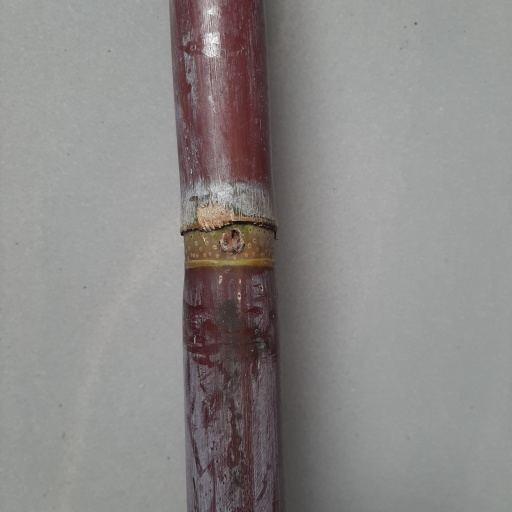Damage_Bud: (218, 227, 245, 256)
